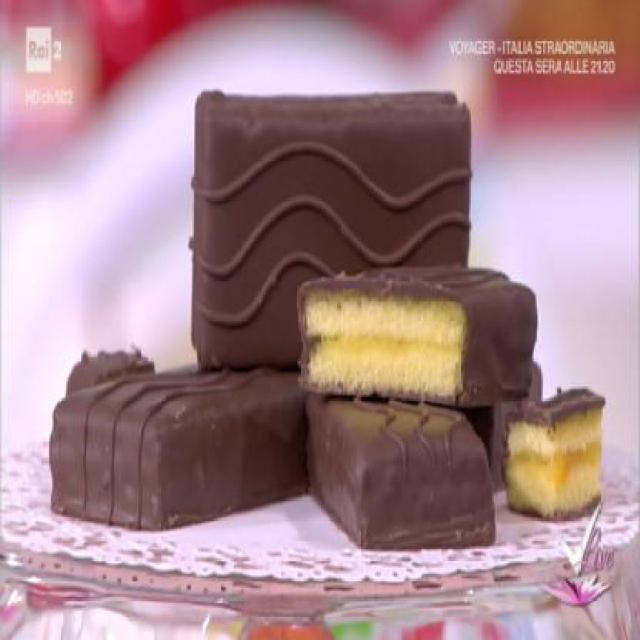Merendine packaged: (190, 89, 478, 368), (45, 364, 312, 546), (289, 260, 537, 406), (302, 391, 504, 557)
